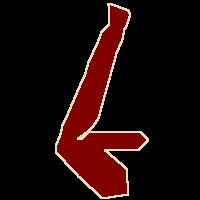tie: (56, 4, 148, 198)
